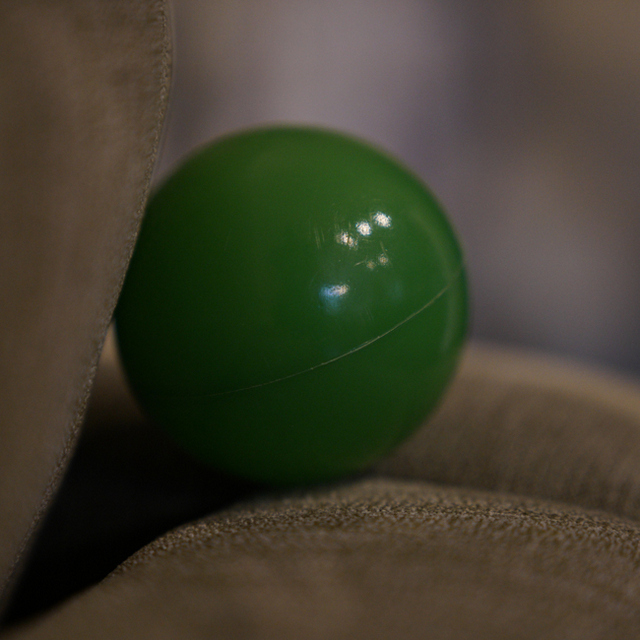Ball: (117, 124, 467, 487)
